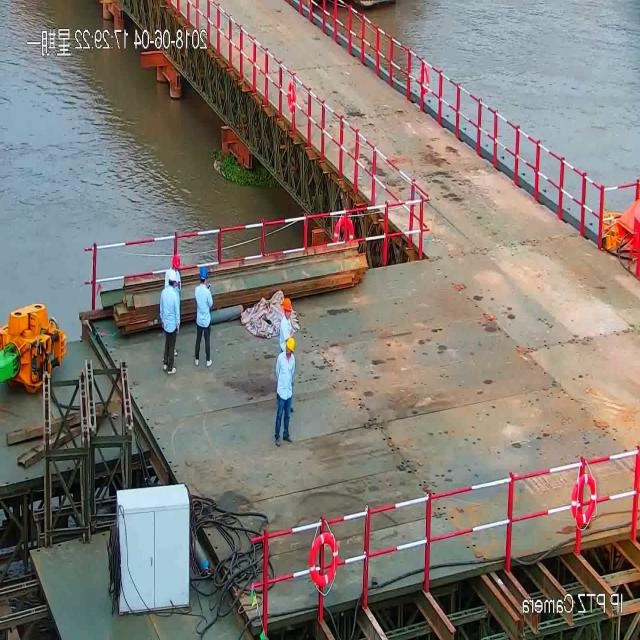Con_Casco: (285, 337, 295, 358), (199, 265, 209, 283), (283, 298, 292, 318)
